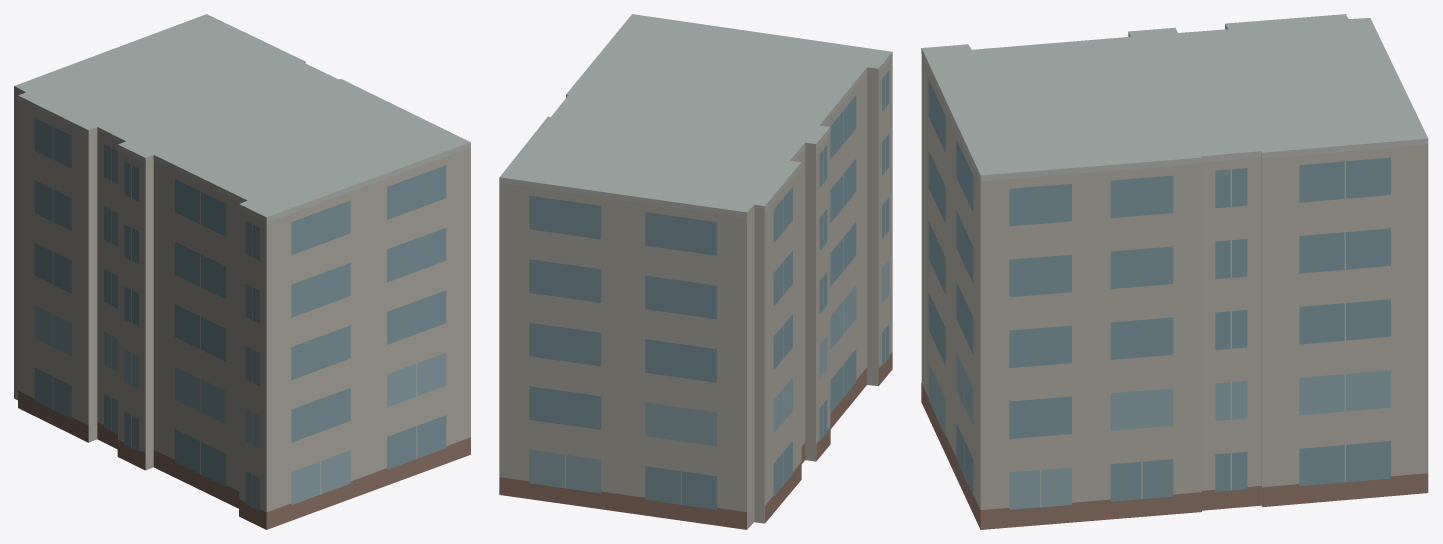
File: survey-upis-32698482.glb
3 views of the same model, side by side, from view 1: azimuth 30°, elevation 25°; view 2: azimuth 150°, elevation 25°; view 3: azimuth 270°, elevation 25° (orthographic). The views are drawn at different scales.
Parts seen in each view (by area): view 1: survey-upis-32698482.tmp; view 2: survey-upis-32698482.tmp; view 3: survey-upis-32698482.tmp.
Boxes of the visible parts, box(x1,y1,x2,y2) form: survey-upis-32698482.tmp: box(14, 14, 470, 529); survey-upis-32698482.tmp: box(499, 14, 892, 529); survey-upis-32698482.tmp: box(921, 14, 1428, 529).
Size of the model in its own units: 14.18 by 14.5 by 18.8.
